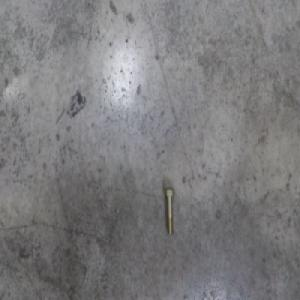Bolt: (163, 185, 175, 234)
